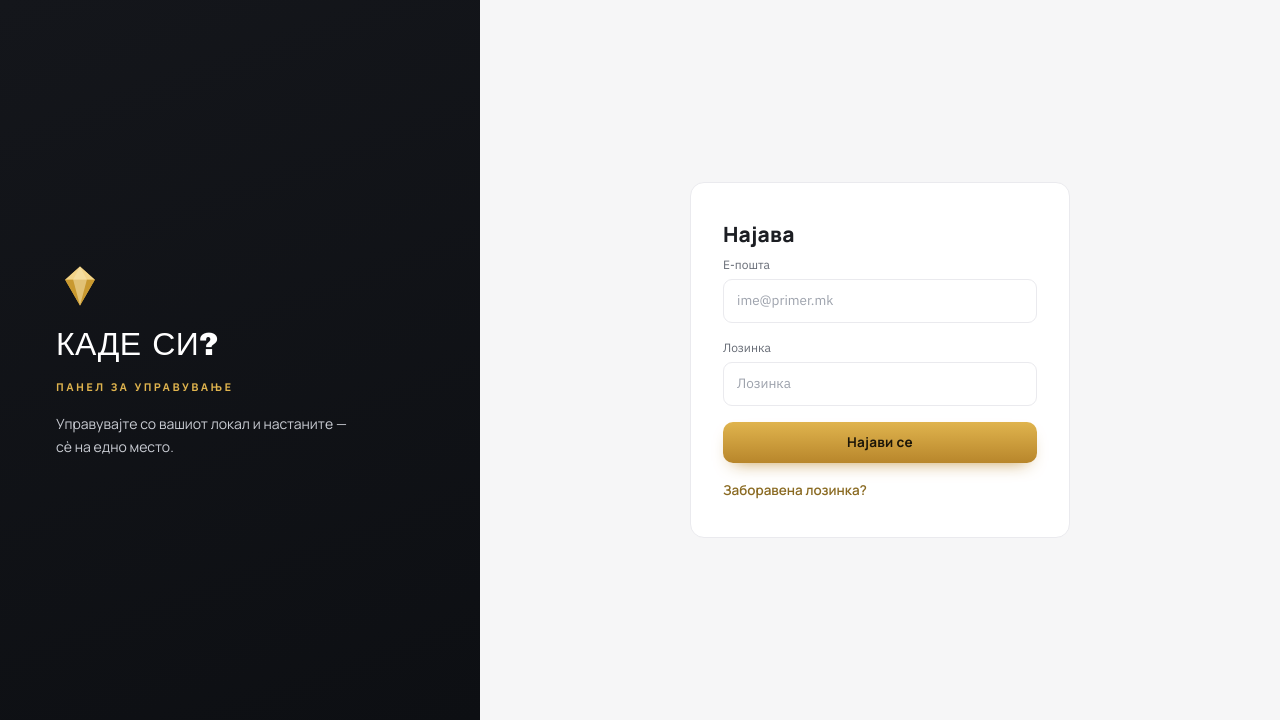
Scenario: LoginPage › opens the reset form from the forgotten-password link
Step 1. Click the button "Заборавена лозинка?" → (795, 491), box top-left (723, 481), bottom-right (867, 501)
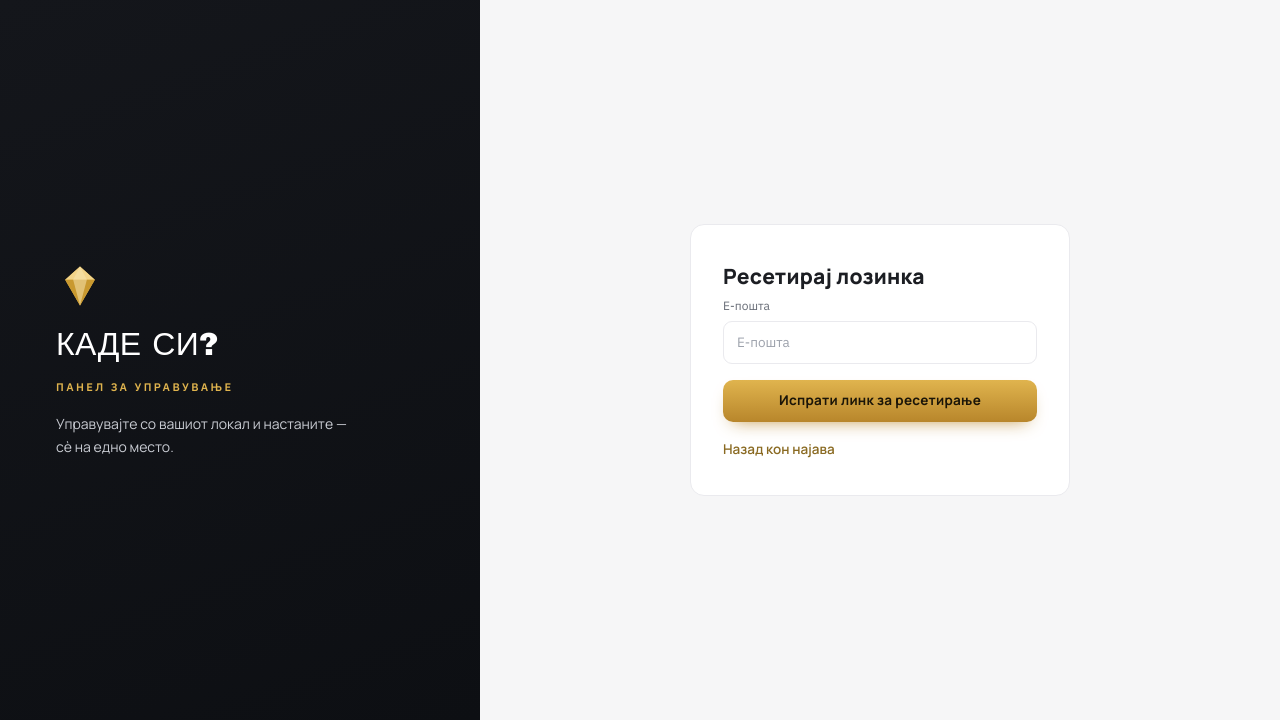
Check: the button "Испрати линк за ресетирање" is shown, box top-left (723, 380), bottom-right (1037, 422)
